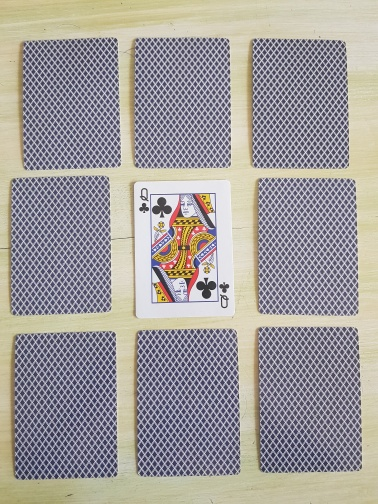queen: (133, 178, 235, 320)
